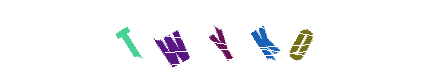0: (261, 0, 341, 80)
K: (224, 0, 304, 80)
T: (134, 0, 214, 80)
W: (147, 0, 227, 80)
Y: (177, 0, 257, 80)
